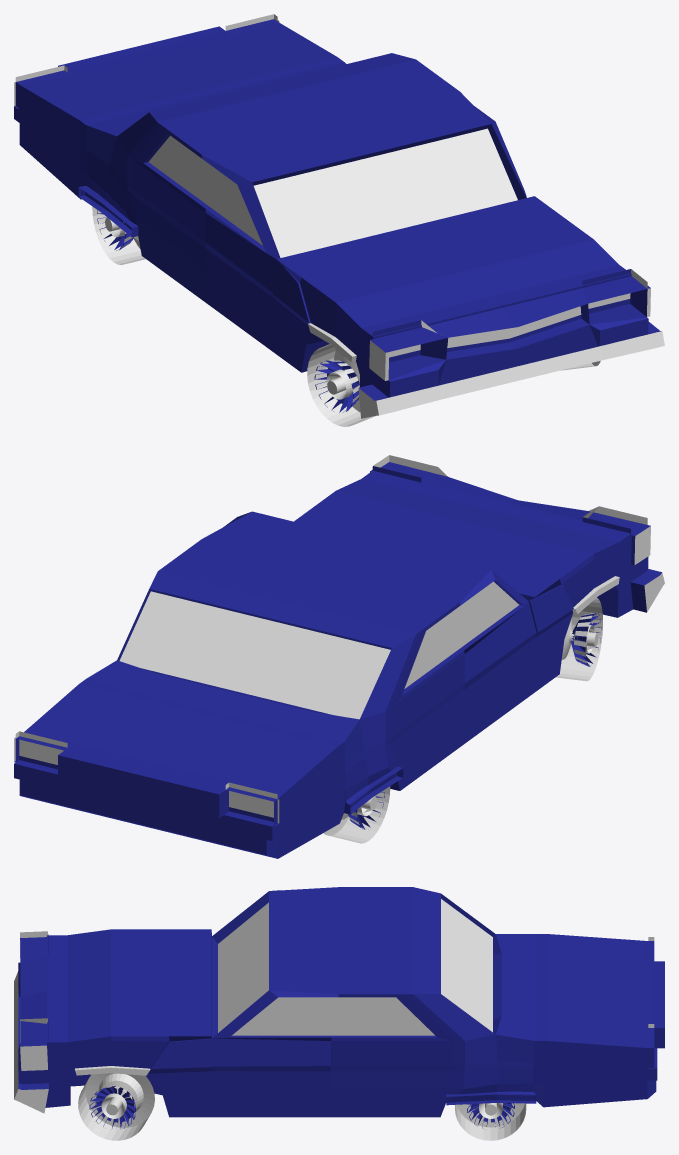
The model's file is car.gltf.
3 views of the same model, one above another, from view 1: azimuth 30°, elevation 25°; view 2: azimuth 150°, elevation 25°; view 3: azimuth 270°, elevation 25° (orthographic). The views are drawn at different scales.
Visible parts, largest first — view 1: Cube; view 2: Cube; view 3: Cube.
Boxes of the visible parts, x1=… form: Cube: x1=14, y1=14, x2=664, y2=426; Cube: x1=14, y1=455, x2=664, y2=858; Cube: x1=14, y1=887, x2=664, y2=1140.
Bounding box in the file's own units: 2.19 × 1.27 × 5.08.
